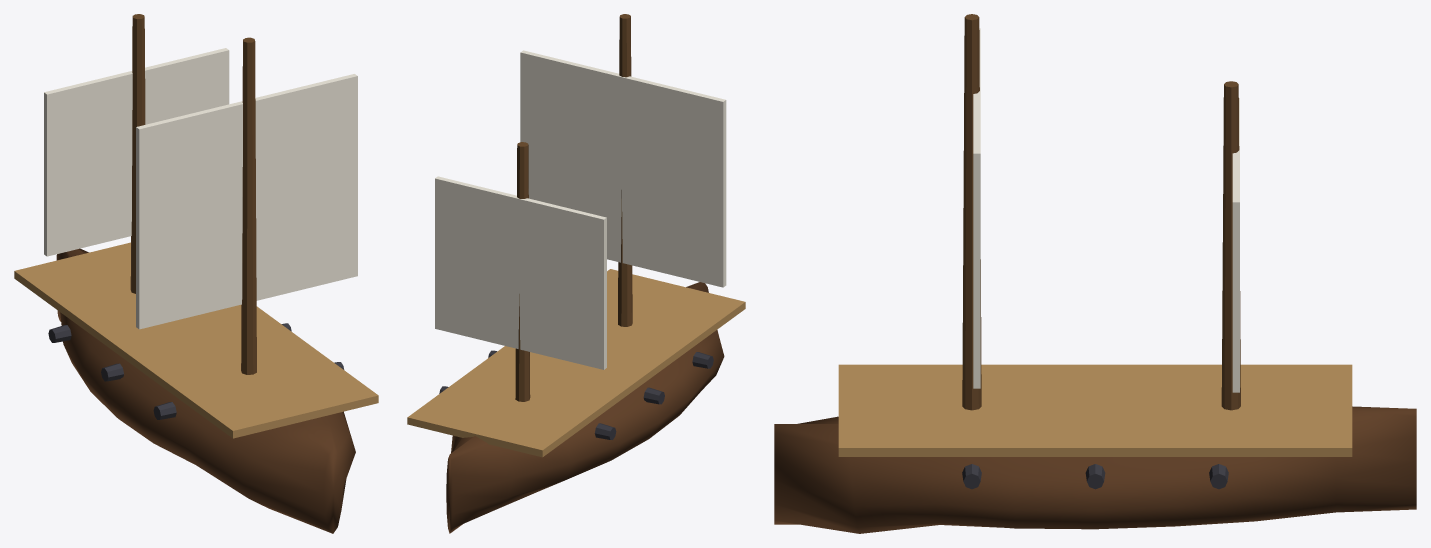
Rendered from veh_galleon.glb.
The picture shows the model from 3 angles, left to right: view 1: azimuth 30°, elevation 25°; view 2: azimuth 150°, elevation 25°; view 3: azimuth 270°, elevation 25°; orthographic projection. The views are drawn at different scales.
Visible parts, largest first — view 1: sail, deck, hull, sail.001, mast, mast.001; view 2: sail, sail.001, deck, hull, mast, mast.001; view 3: hull, deck, mast, mast.001, sail, sail.001.
Part boxes in pixels (<box>): sail: <box>136,74,357,329</box>; deck: <box>14,242,378,438</box>; hull: <box>56,248,355,533</box>; sail.001: <box>44,48,229,256</box>; mast: <box>241,37,256,374</box>; mast.001: <box>130,14,145,293</box>; sail: <box>520,50,726,287</box>; sail.001: <box>435,176,606,369</box>; deck: <box>407,269,745,457</box>; hull: <box>446,282,724,533</box>; mast: <box>618,14,632,326</box>; mast.001: <box>515,142,530,401</box>; hull: <box>774,406,1416,533</box>; deck: <box>838,364,1352,456</box>; mast: <box>962,14,981,410</box>; mast.001: <box>1221,81,1240,410</box>; sail: <box>973,28,980,388</box>; sail.001: <box>1232,98,1239,392</box>.
Bounding box in the file's own units: 1.2 × 2.27 × 2.6.
